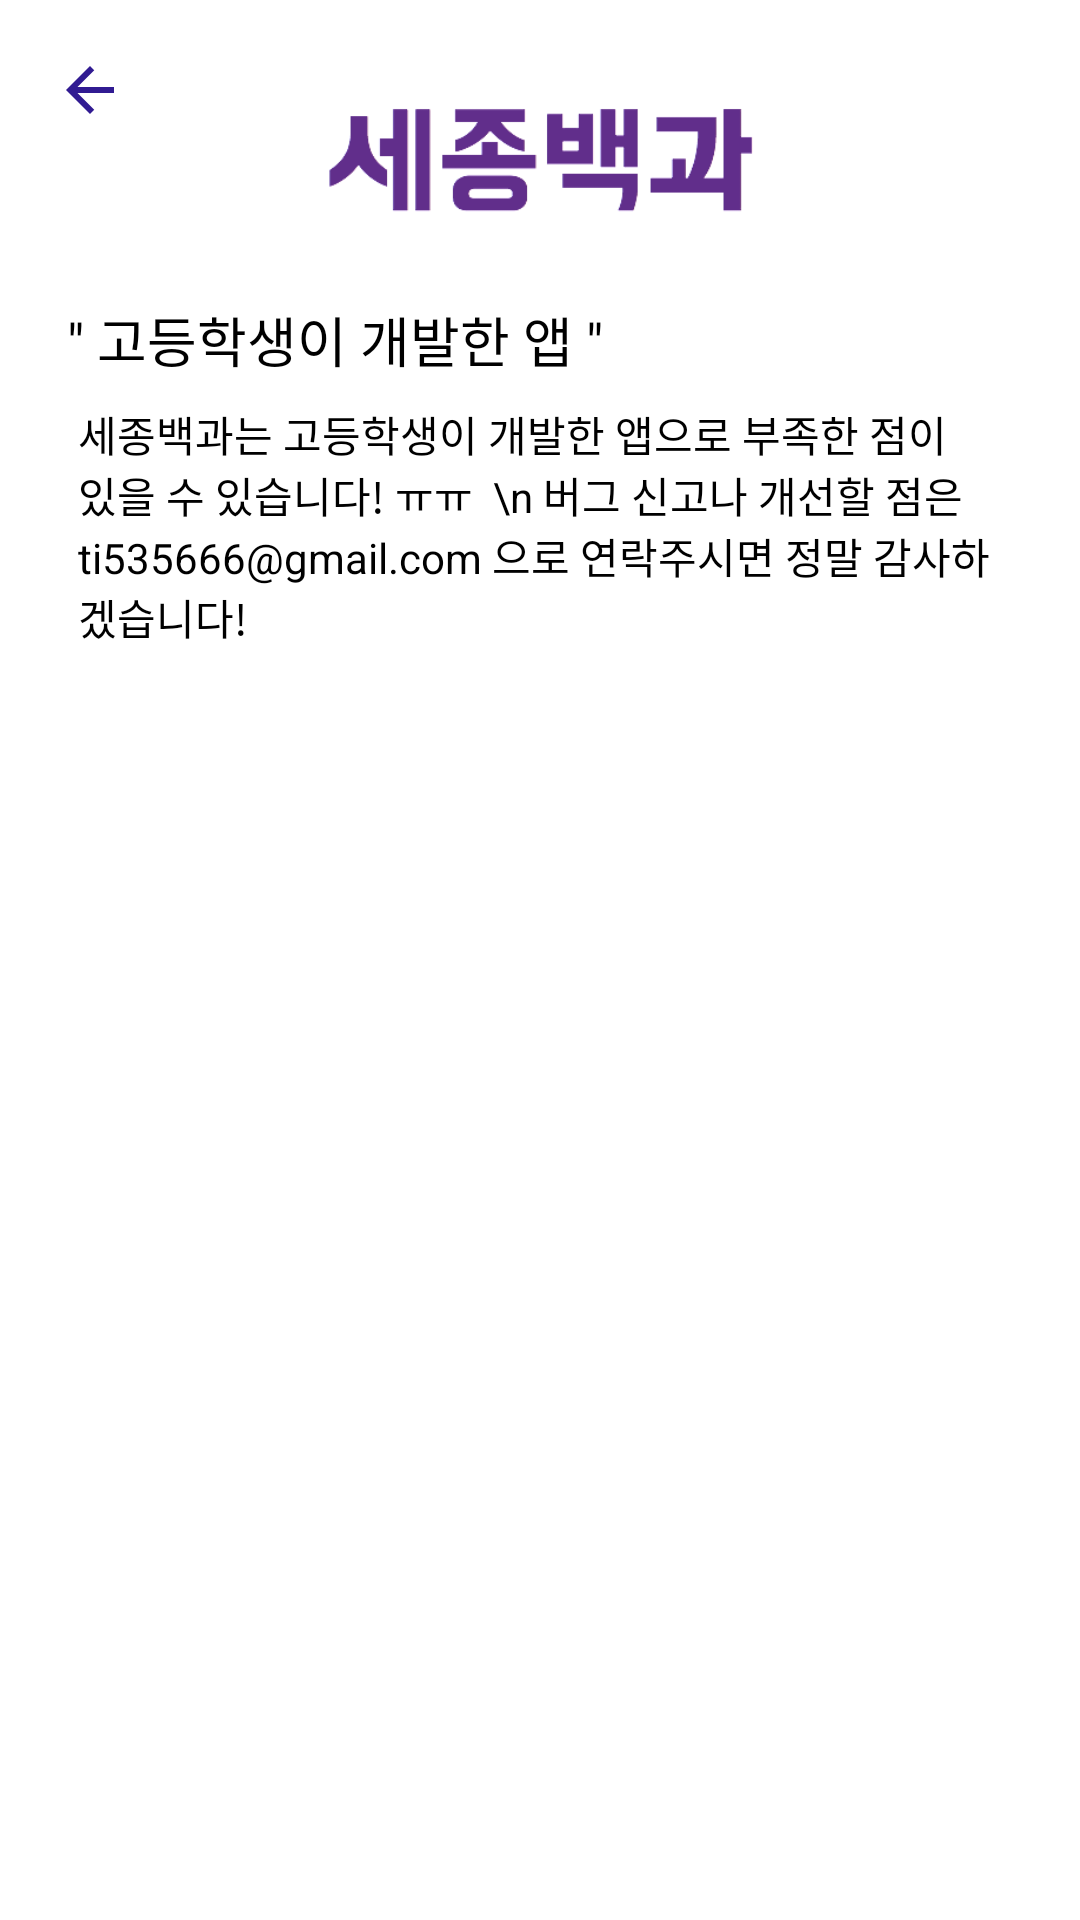

Icons on this 1080px×1920px Android screen, each with its box as (x1, y1, x2, y2):
back: (66, 66, 114, 114)
